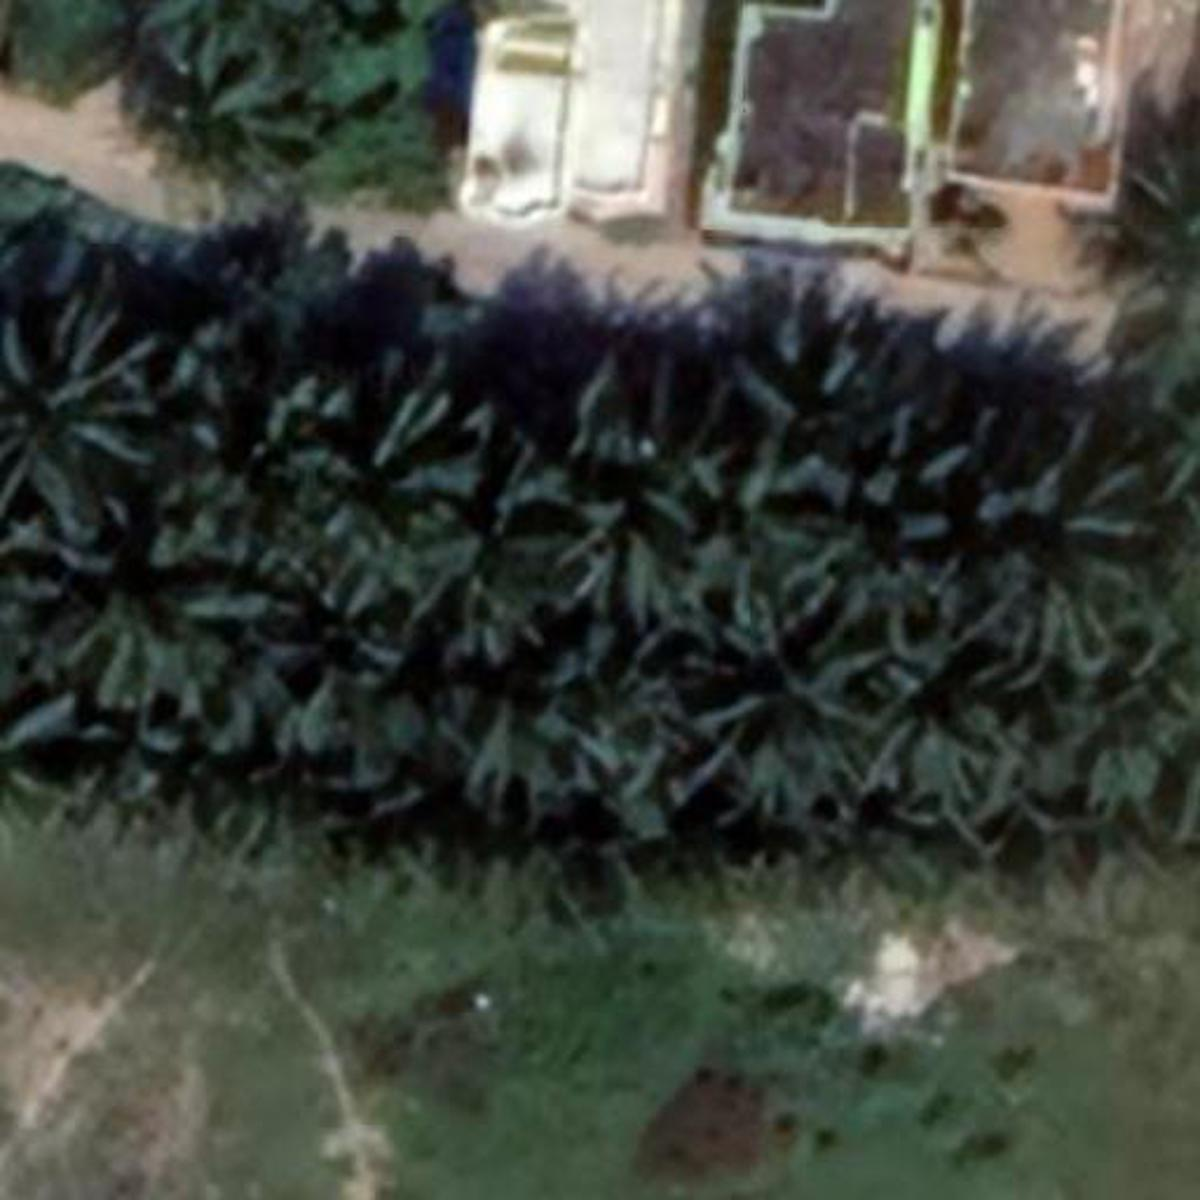coconut: (1000, 405, 1195, 663), (248, 555, 442, 782), (862, 597, 1033, 834), (65, 534, 274, 724), (2, 288, 145, 555), (700, 625, 878, 827), (1024, 646, 1192, 841), (133, 18, 321, 189), (726, 304, 890, 478), (314, 391, 480, 562), (164, 396, 321, 569), (656, 442, 820, 607), (827, 398, 979, 567), (546, 623, 684, 808), (438, 515, 597, 656), (0, 691, 89, 843), (1127, 114, 1200, 300)
